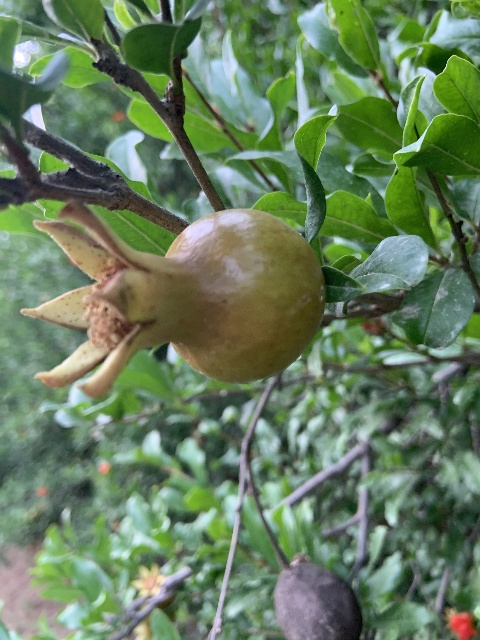early-fruit: (19, 203, 324, 397)
flower: (446, 610, 476, 640)
